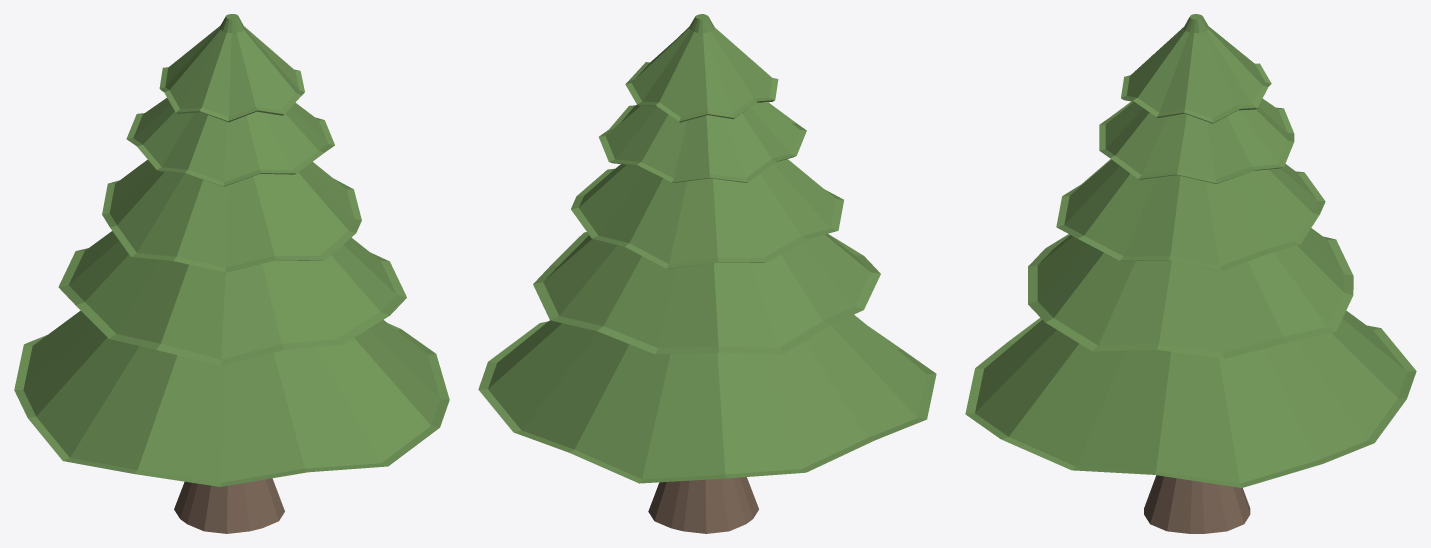
File: TreePine.fbx
3 views of the same model, side by side, from view 1: azimuth 30°, elevation 25°; view 2: azimuth 150°, elevation 25°; view 3: azimuth 270°, elevation 25° (orthographic).
Parts seen in each view (by area): view 1: PineTree; view 2: PineTree; view 3: PineTree.
Boxes of the visible parts, x1,y1,x2,y2 form: PineTree: [14, 14, 449, 533]; PineTree: [478, 14, 936, 533]; PineTree: [965, 14, 1416, 533].
Bounding box in the file's own units: 2654 × 3217 × 2654.
